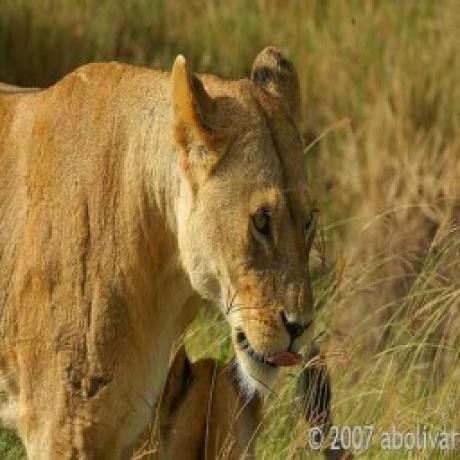Lion: (0, 43, 323, 460)
